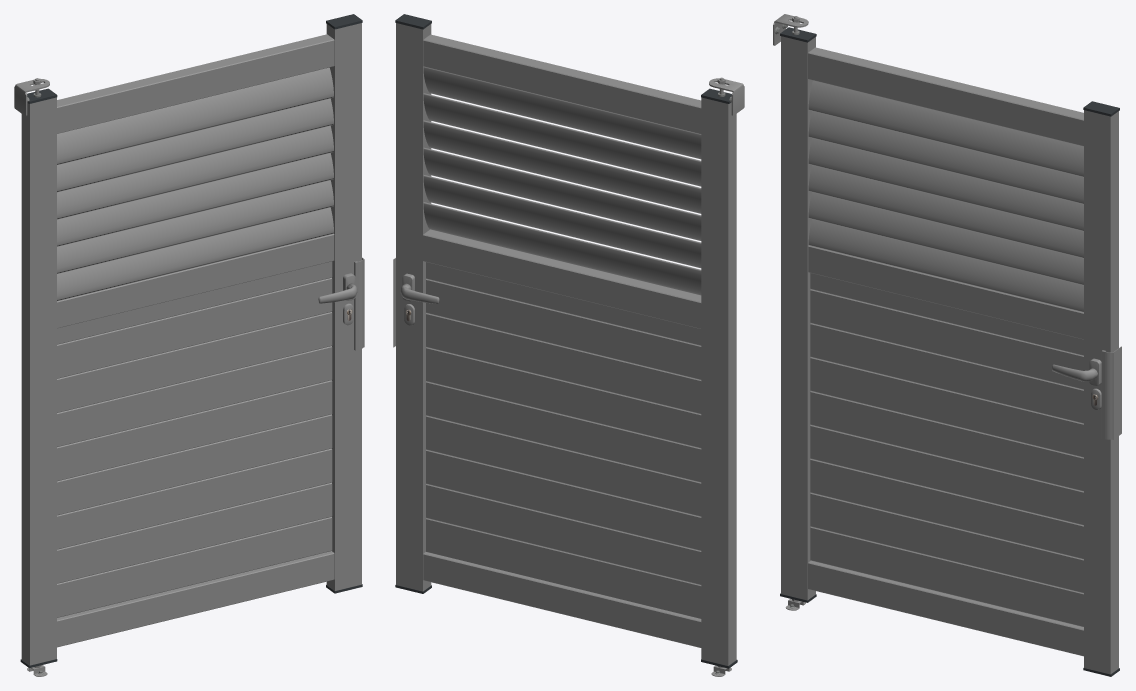
The picture shows the model from 3 angles, left to right: view 1: azimuth 30°, elevation 25°; view 2: azimuth 150°, elevation 25°; view 3: azimuth 330°, elevation 25°; orthographic projection.
Parts seen in each view (by area): view 1: Shape107412643, Shape107412638, Line014, Line017, Line019, Line016, Line018, Line020, Line015, Shape163, Line021, Circle050 (+10 smaller); view 2: Shape107412643, Shape107412638, Line018, Line015, Line017, Line019, Line016, Line020, Shape163, Line014, Line021, Shape107411692 (+9 smaller); view 3: Shape107412638, Shape107412643, Line014, Line015, Line018, Line019, Line016, Line020, Line017, Shape163, Line021, Circle050 (+9 smaller).
Boxes of the visible parts, bbox=[...] form: Shape107412643: bbox=[21, 97, 56, 665]; Shape107412638: bbox=[326, 23, 361, 590]; Line014: bbox=[57, 517, 332, 617]; Line017: bbox=[57, 414, 332, 515]; Line019: bbox=[57, 346, 332, 446]; Line016: bbox=[57, 448, 332, 549]; Line018: bbox=[57, 380, 332, 481]; Line020: bbox=[57, 312, 332, 412]; Line015: bbox=[57, 482, 332, 583]; Shape163: bbox=[57, 34, 334, 133]; Line021: bbox=[57, 277, 332, 378]; Circle050: bbox=[57, 67, 333, 164]; Shape107412643: bbox=[701, 97, 736, 665]; Shape107412638: bbox=[396, 23, 431, 591]; Line018: bbox=[426, 381, 701, 482]; Line015: bbox=[426, 484, 701, 584]; Line017: bbox=[426, 415, 701, 516]; Line019: bbox=[426, 347, 701, 448]; Line016: bbox=[426, 449, 701, 550]; Line020: bbox=[426, 313, 701, 413]; Shape163: bbox=[423, 34, 701, 133]; Line014: bbox=[426, 518, 701, 618]; Line021: bbox=[426, 279, 701, 379]; Shape107411692: bbox=[423, 229, 701, 328]; Shape107412638: bbox=[1084, 110, 1118, 674]; Shape107412643: bbox=[781, 36, 815, 600]; Line014: bbox=[810, 526, 1083, 626]; Line015: bbox=[810, 493, 1083, 592]; Line018: bbox=[810, 391, 1083, 491]; Line019: bbox=[810, 357, 1083, 457]; Line016: bbox=[810, 459, 1083, 559]; Line020: bbox=[810, 323, 1083, 423]; Line017: bbox=[810, 425, 1083, 525]; Shape163: bbox=[808, 47, 1083, 146]; Line021: bbox=[810, 289, 1083, 389]; Circle050: bbox=[808, 80, 1083, 177].
Bounding box in the file's own units: 1015 × 1688 × 152.
Materials: 7 (4 with a texture image).
